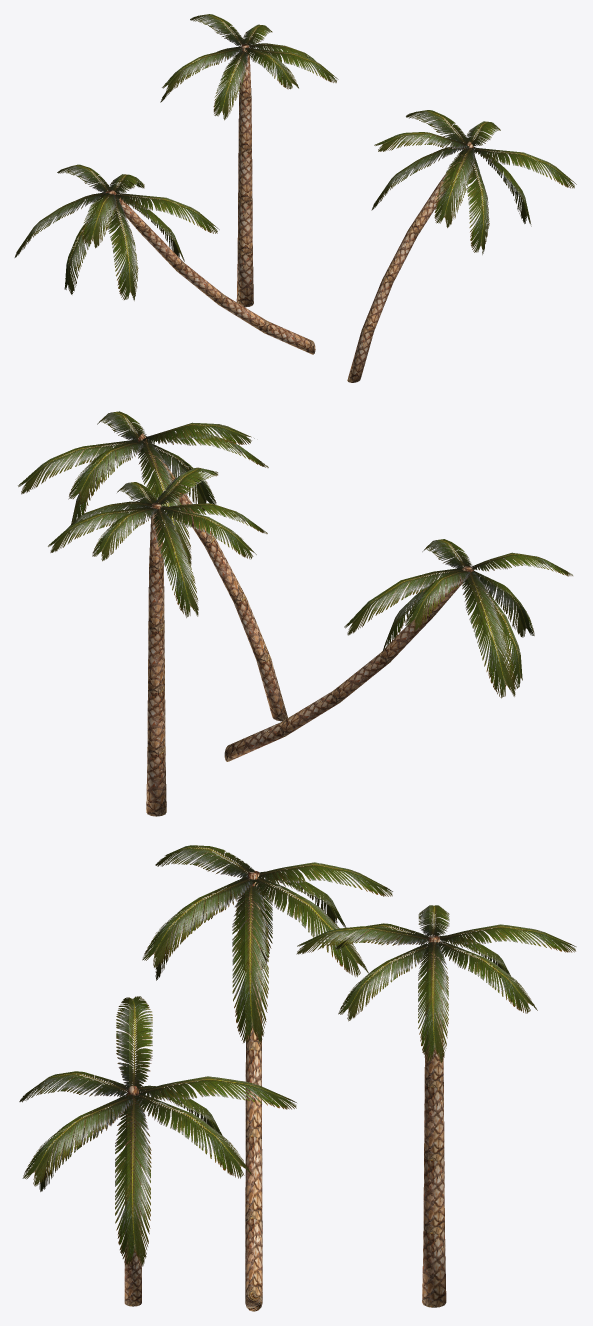
Rendered from Palm_Tree_Pack.fbx.
The picture shows the model from 3 angles, top to bottom: view 1: azimuth 30°, elevation 25°; view 2: azimuth 150°, elevation 25°; view 3: azimuth 270°, elevation 25°; orthographic projection. The views are drawn at different scales.
Visible parts, largest first — view 1: Palm_Tree2, Palm_Tree1, Palm_Tree3; view 2: Palm_Tree1, Palm_Tree3, Palm_Tree2; view 3: Palm_Tree1, Palm_Tree2, Palm_Tree3.
Part boxes in pixels (box(x1,y1,x2,y2)): Palm_Tree2: box(347, 110, 576, 382); Palm_Tree1: box(14, 164, 315, 354); Palm_Tree3: box(160, 14, 338, 307); Palm_Tree1: box(224, 539, 572, 761); Palm_Tree3: box(48, 467, 267, 816); Palm_Tree2: box(18, 411, 287, 721); Palm_Tree1: box(142, 845, 392, 1311); Palm_Tree2: box(19, 996, 296, 1306); Palm_Tree3: box(296, 905, 576, 1307).
Bounding box in the file's own units: 11.95 × 6.68 × 8.92.
Materials: 2 (2 with a texture image).
